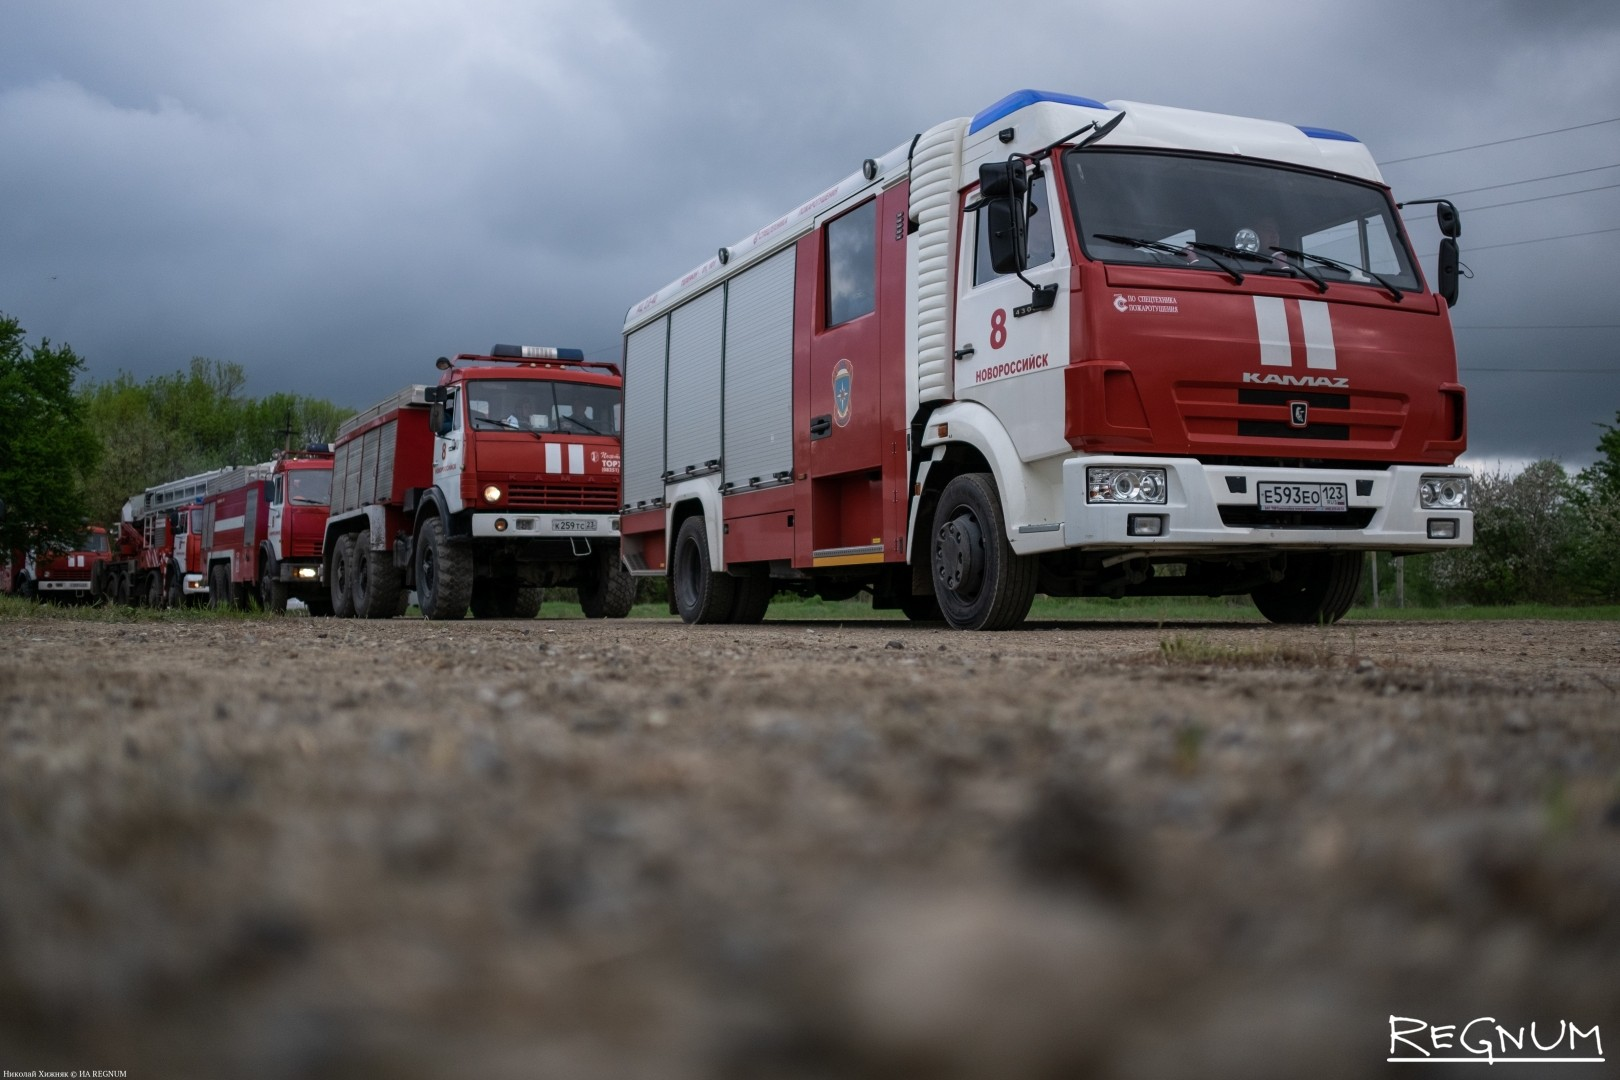special: (617, 90, 1473, 620), (312, 339, 622, 624), (198, 446, 329, 612)
